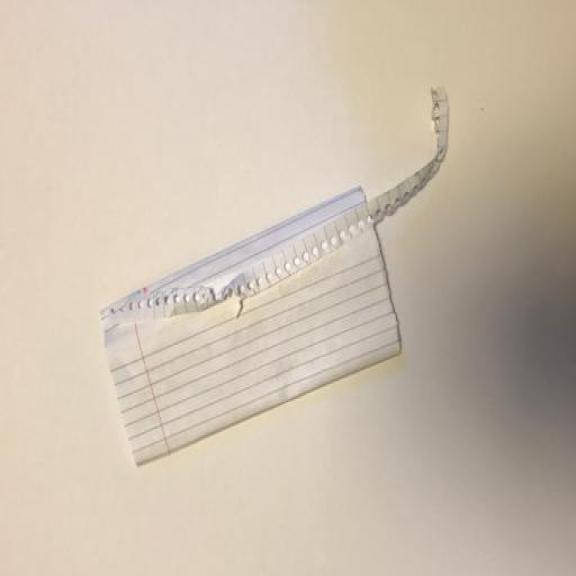Kertas: (97, 80, 458, 470)
